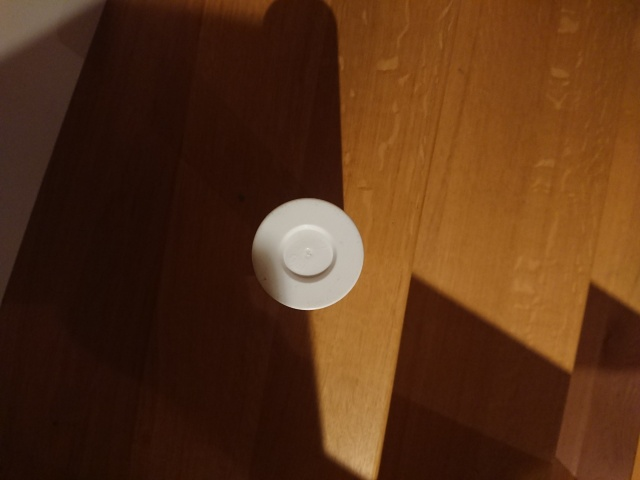Solana Pag Fine Sea Salt 250g: (248, 193, 367, 314)
